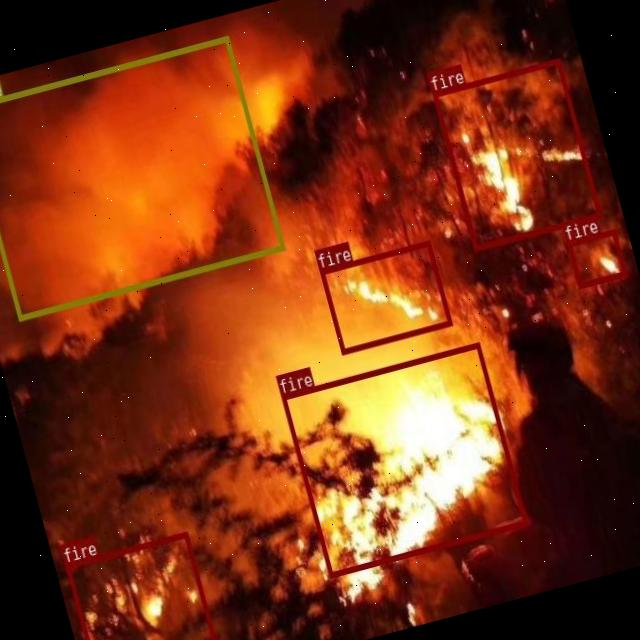fire: (279, 340, 526, 576), (432, 58, 600, 250), (63, 530, 224, 640), (318, 240, 452, 354), (564, 228, 626, 287)
smoke: (0, 34, 284, 320)
